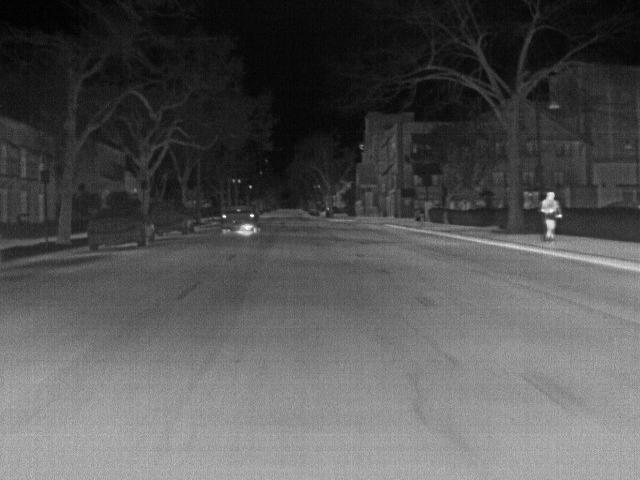car: (87, 206, 156, 253), (152, 201, 196, 235), (220, 204, 260, 236)
person: (537, 188, 564, 248)
